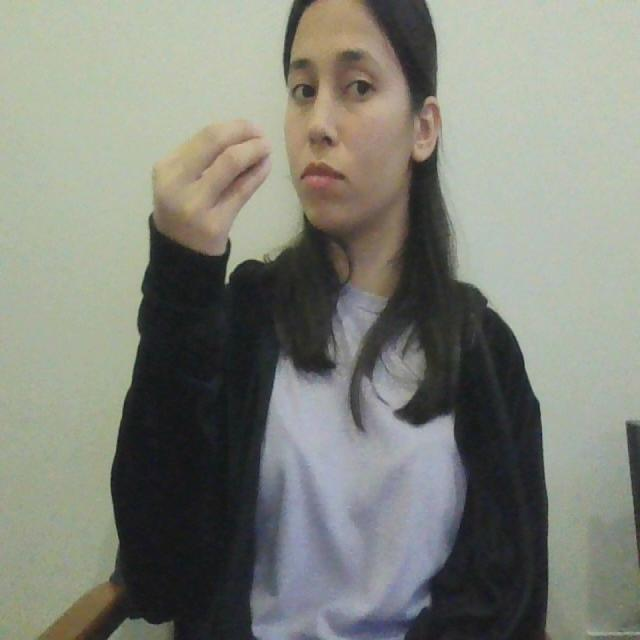Yemek: (153, 119, 344, 211)
